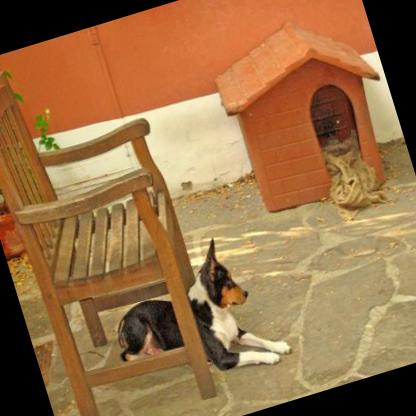basenji: (92, 223, 294, 406)
